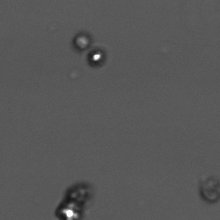Dead Cell: (66, 182, 95, 203), (200, 178, 219, 202), (71, 30, 92, 50)
Living Cell: (87, 46, 106, 68), (55, 203, 82, 218)
